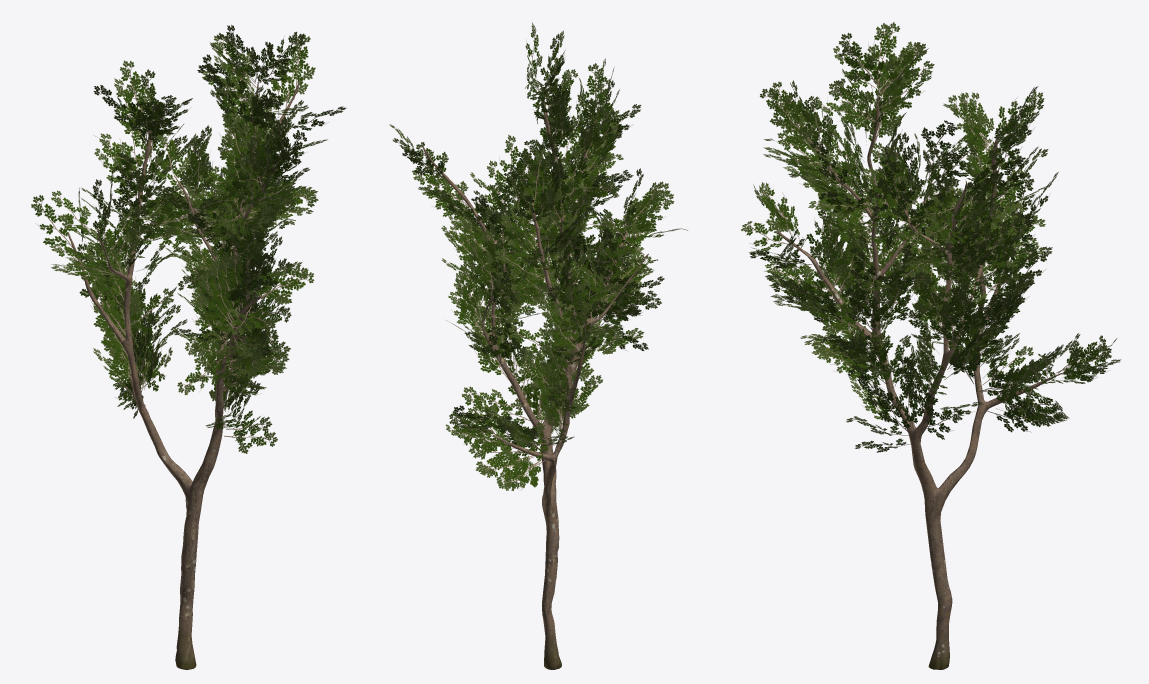
Rendered from cypress.glb.
3 views of the same model, side by side, from view 1: azimuth 30°, elevation 25°; view 2: azimuth 150°, elevation 25°; view 3: azimuth 270°, elevation 25° (orthographic). The views are drawn at different scales.
Parts seen in each view (by area): view 1: Plane.008; view 2: Plane.008; view 3: Plane.008.
Boxes of the visible parts, <box> form: Plane.008: <box>31,24,346,669</box>; Plane.008: <box>389,22,687,669</box>; Plane.008: <box>741,22,1120,669</box>.
Bounding box in the file's own units: 9.18 × 19.68 × 10.94.
2 materials, 2 textured.
